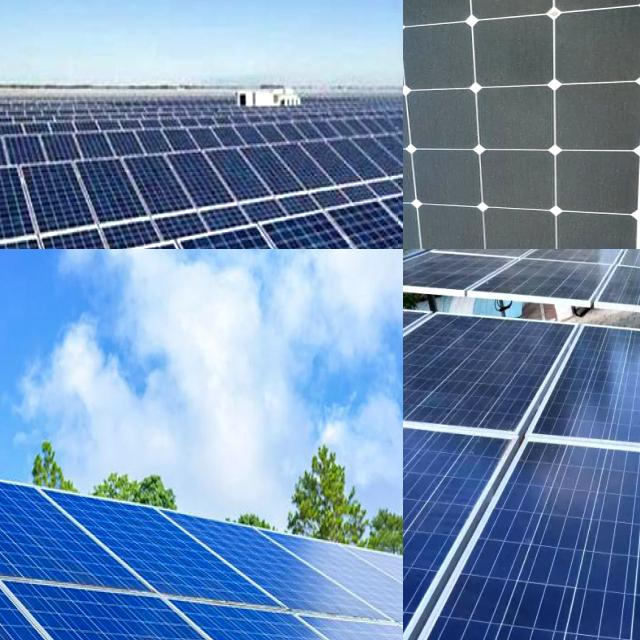crack: (403, 456, 640, 640), (31, 467, 289, 632), (150, 492, 392, 640), (0, 564, 343, 640), (0, 463, 152, 616), (521, 318, 640, 474), (161, 581, 403, 640), (263, 193, 403, 249)
dust: (559, 0, 625, 249), (403, 77, 486, 249), (490, 20, 552, 146), (403, 0, 527, 41), (495, 161, 552, 249), (477, 0, 549, 30)
